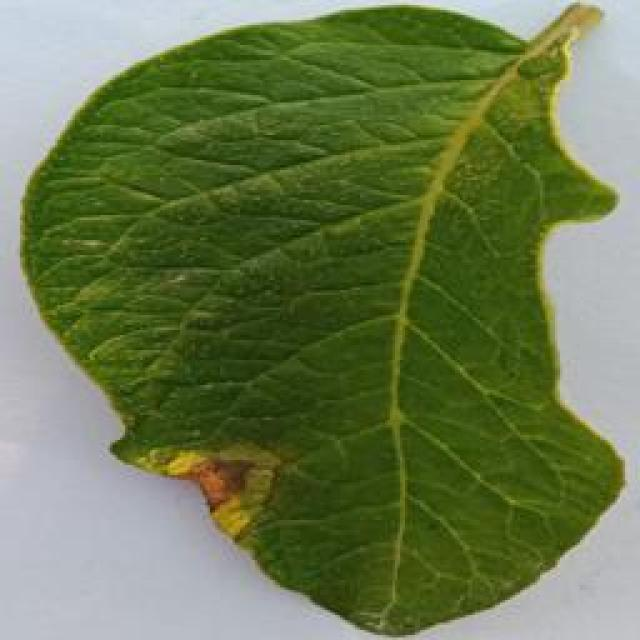Potato_Late_Blight: (6, 11, 634, 638)
